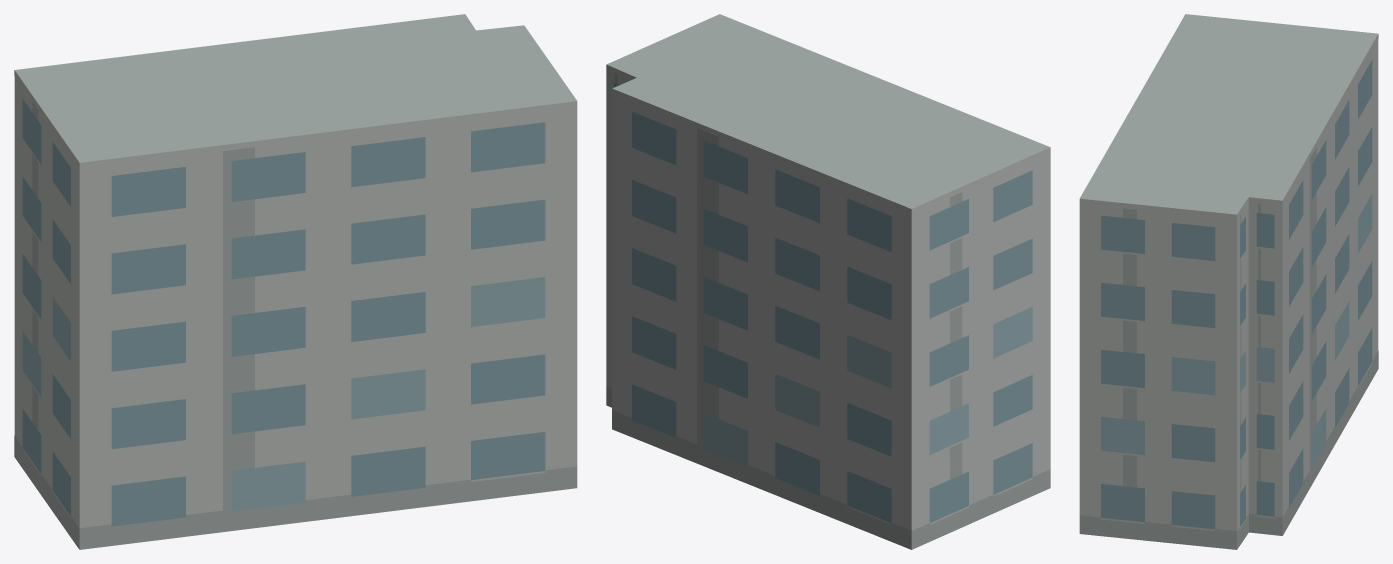
Rendered from survey-upis-32871612.glb.
3 renders of one model, left to right at view 1: azimuth 30°, elevation 25°; view 2: azimuth 150°, elevation 25°; view 3: azimuth 270°, elevation 25°, orthographic. The views are drawn at different scales.
Visible parts, largest first — view 1: survey-upis-32871612.tmp; view 2: survey-upis-32871612.tmp; view 3: survey-upis-32871612.tmp.
Boxes of the visible parts, x1,y1,x2,y2 form: survey-upis-32871612.tmp: [14, 14, 577, 549]; survey-upis-32871612.tmp: [606, 14, 1050, 549]; survey-upis-32871612.tmp: [1079, 14, 1378, 549].
Bounding box in the file's own units: 19.77 × 15.4 × 12.45.
